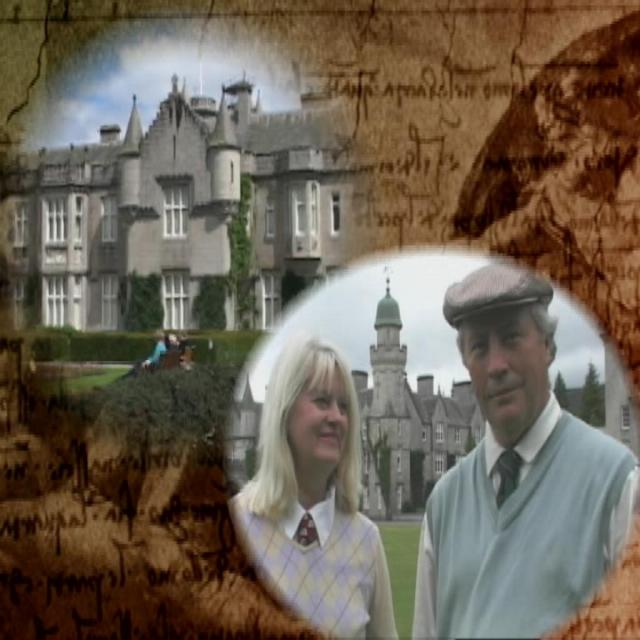nomask: (461, 295, 544, 425), (290, 358, 350, 464)
